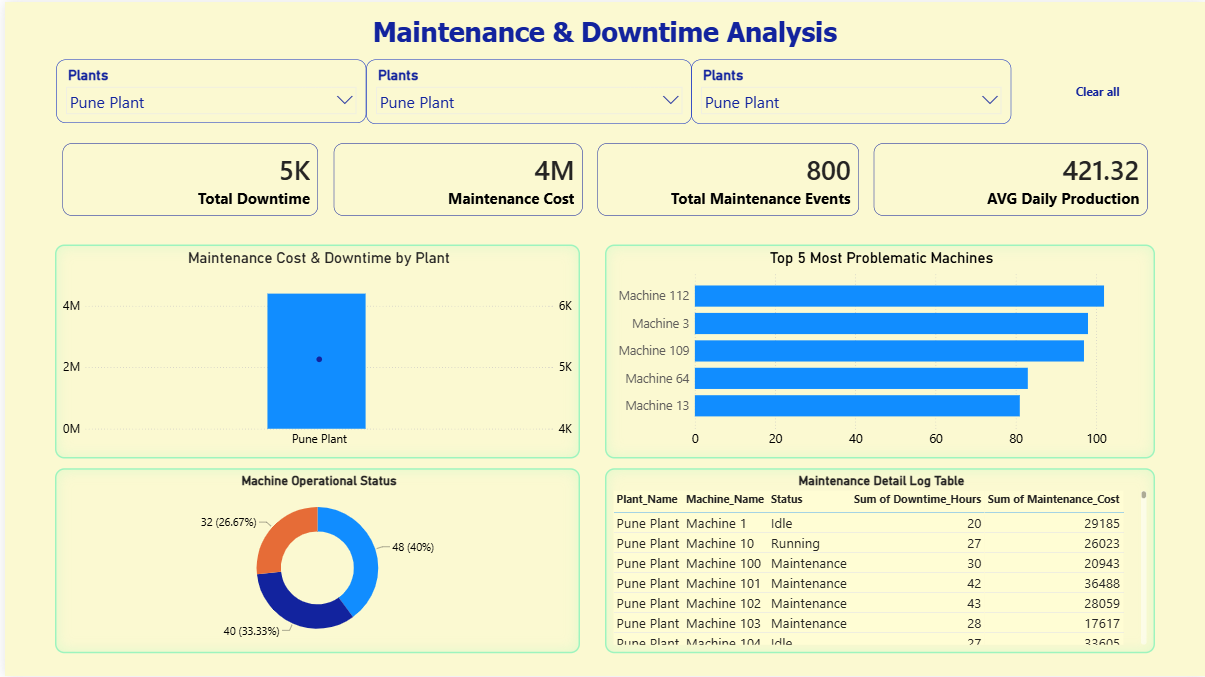

The dashboard page shown, as its layout file describes it:
{"tool":"powerbi","page":{"name":"Maintenance Analysis","canvas":[1920,1080],"ordinal":3},"visuals":[{"type":"textbox","box":[0,16.2,1919.5,64.6],"z":0},{"type":"slicer","fields":{"Values":["Plants.Plant_Name"]},"box":[80.8,91.5,586.9,102.3],"z":1000},{"type":"slicer","fields":{"Values":["Plants.Plant_Name"]},"box":[667.7,91.5,586.9,102.3],"z":2000},{"type":"slicer","fields":{"Values":["Plants.Plant_Name"]},"box":[1254.5,91.5,586.9,102.3],"z":3000},{"type":"cardVisual","fields":{"Data":["_Measures.Total Downtime"]},"box":[80.4,214.5,433.5,140.8],"z":4000},{"type":"cardVisual","fields":{"Data":["_Measures.Maintenance Cost"]},"box":[514,214.5,422.4,140.8],"z":5000},{"type":"cardVisual","fields":{"Data":["_Measures.Total Maintenance Events"]},"box":[936.3,214.5,442.5,140.8],"z":6000},{"type":"cardVisual","fields":{"Data":["_Measures.AVG Daily Production"]},"box":[1378.8,214.5,462.6,140.8],"z":7000},{"type":"lineStackedColumnComboChart","title":"Maintenance Cost & Downtime by Plant","fields":{"Category":["Plants.Plant_Name"],"Y":["_Measures.Maintenance Cost"],"Y2":["_Measures.Total Downtime"]},"box":[80,388,840,342],"z":8000},{"type":"clusteredBarChart","title":"Top 5 Most Problematic Machines","fields":{"Category":["Machines.Machine_Name"],"Y":["_Measures.Total Downtime"]},"box":[960,388,880,342],"z":9000},{"type":"donutChart","title":"Machine Operational Status","fields":{"Category":["Machines.Status"],"Y":["CountNonNull(Machines.Machine_ID)"]},"box":[80,746,840,296],"z":10000},{"type":"tableEx","title":"Maintenance Detail Log Table","fields":{"Values":["Plants.Plant_Name","Machines.Machine_Name","Machines.Status","Sum(Maintenance.Downtime_Hours)","Sum(Maintenance.Maintenance_Cost)"]},"box":[960,746,880,296],"z":11000}]}

Visuals, with their boxes in screenshot pixels (x1, y1, x2, y2), scaled from the page's 1920x1080 canvas onto the 1205x677 screenshot:
textbox: x1=0 y1=10 x2=1204 y2=51
slicer - Plants.Plant_Name: x1=51 y1=57 x2=419 y2=121
slicer - Plants.Plant_Name: x1=419 y1=57 x2=787 y2=121
slicer - Plants.Plant_Name: x1=787 y1=57 x2=1156 y2=121
cardVisual - _Measures.Total Downtime: x1=50 y1=134 x2=323 y2=223
cardVisual - _Measures.Maintenance Cost: x1=323 y1=134 x2=588 y2=223
cardVisual - _Measures.Total Maintenance Events: x1=588 y1=134 x2=865 y2=223
cardVisual - _Measures.AVG Daily Production: x1=865 y1=134 x2=1156 y2=223
"Maintenance Cost & Downtime by Plant" lineStackedColumnComboChart: x1=50 y1=243 x2=577 y2=458
"Top 5 Most Problematic Machines" clusteredBarChart: x1=602 y1=243 x2=1155 y2=458
"Machine Operational Status" donutChart: x1=50 y1=468 x2=577 y2=653
"Maintenance Detail Log Table" tableEx: x1=602 y1=468 x2=1155 y2=653
